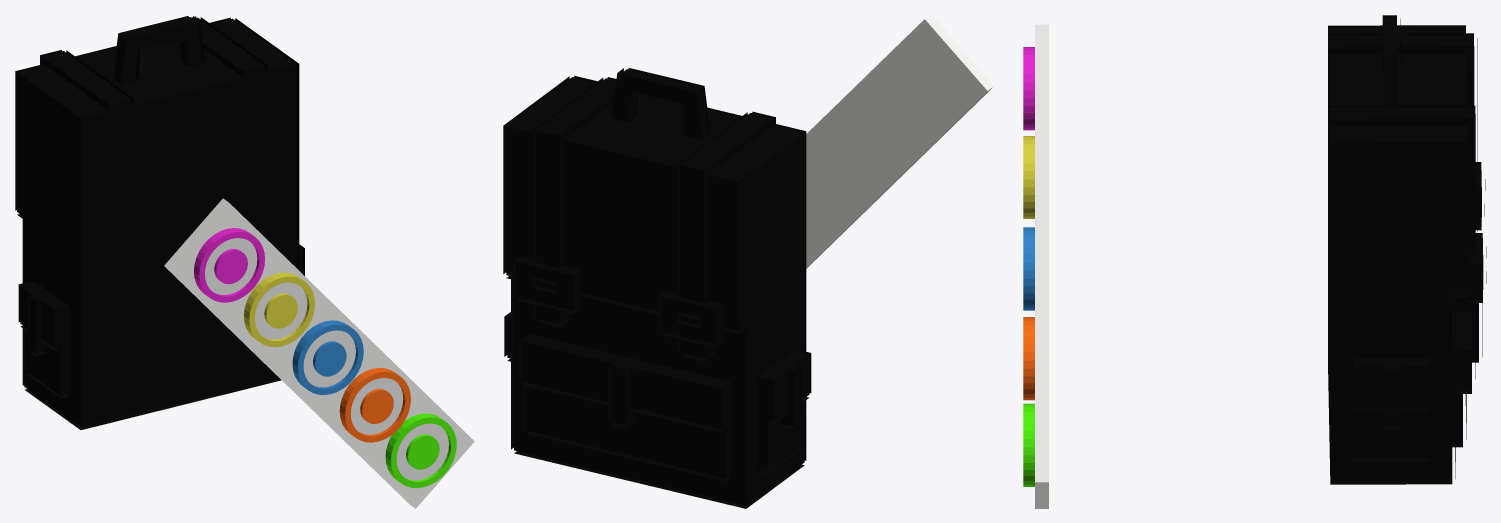
File: accesorios-k7.glb
The picture shows the model from 3 angles, left to right: view 1: azimuth 30°, elevation 25°; view 2: azimuth 150°, elevation 25°; view 3: azimuth 270°, elevation 25°; orthographic projection. The views are drawn at different scales.
Visible parts, largest first — view 1: deco_bolso_outline, Banda, Insignia3, Insignia4, Insignia1, Insignia2, Insignia5; view 2: deco_bolso_outline, Banda; view 3: deco_bolso_outline, Banda, Insignia1, Insignia3, Insignia4, Insignia5, Insignia2.
Part boxes in pixels (x1,y1,x2,y2): deco_bolso_outline: (15, 16, 304, 429); Banda: (164, 198, 474, 508); Insignia3: (292, 320, 363, 394); Insignia4: (339, 368, 410, 442); Insignia1: (194, 228, 264, 302); Insignia2: (244, 272, 314, 347); Insignia5: (385, 413, 456, 488); deco_bolso_outline: (503, 68, 811, 508); Banda: (806, 14, 993, 268); deco_bolso_outline: (1328, 15, 1486, 484); Banda: (1035, 24, 1048, 508); Insignia1: (1023, 47, 1034, 130); Insignia3: (1023, 227, 1034, 310); Insignia4: (1023, 317, 1034, 400); Insignia5: (1023, 403, 1034, 486); Insignia2: (1023, 136, 1034, 218).
Size of the model in its own units: 0.5885 by 0.7176 by 0.7091.
